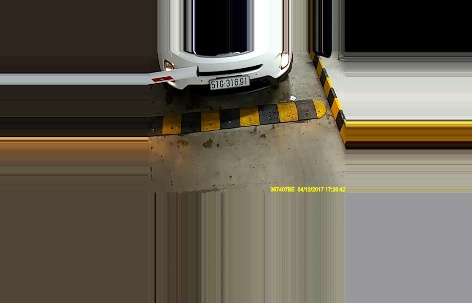plate: (208, 74, 251, 89)
